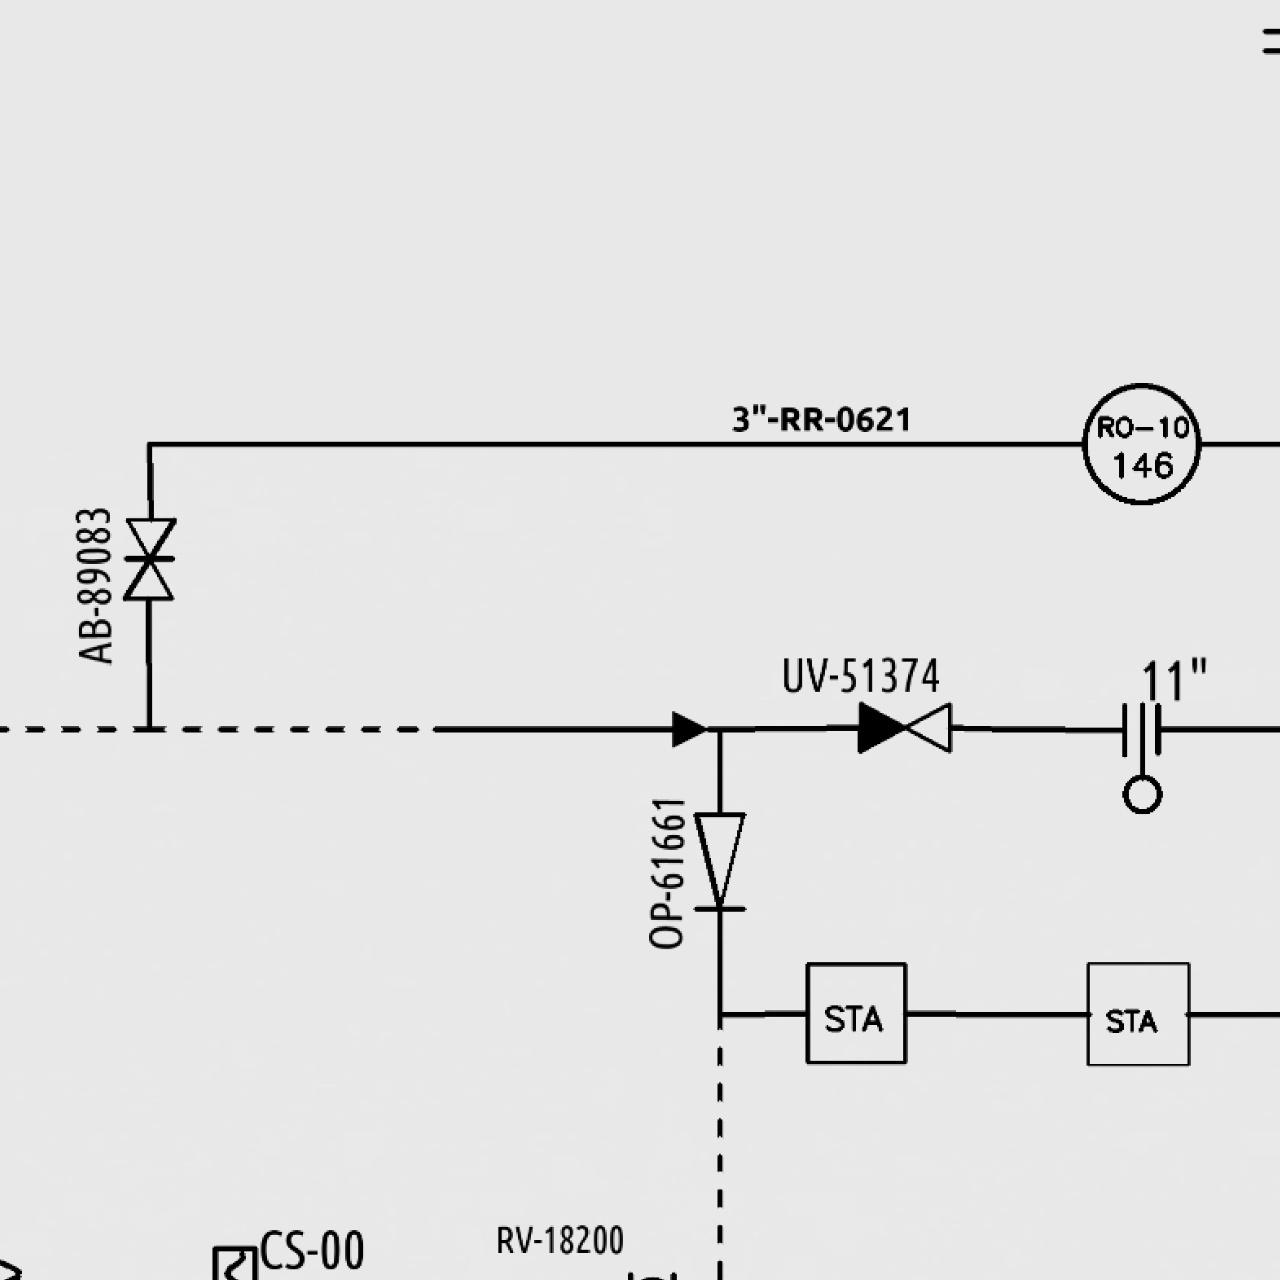Control-Panel: (1075, 377, 1206, 508)
Half closed valve: (853, 696, 955, 756)
